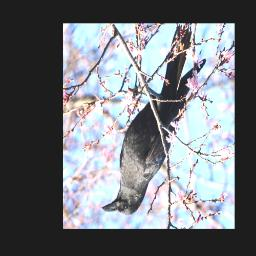Crow: (101, 27, 207, 217)
